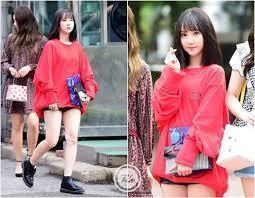dress: (0, 27, 50, 116)
sweater: (149, 61, 231, 191), (27, 36, 102, 116)
